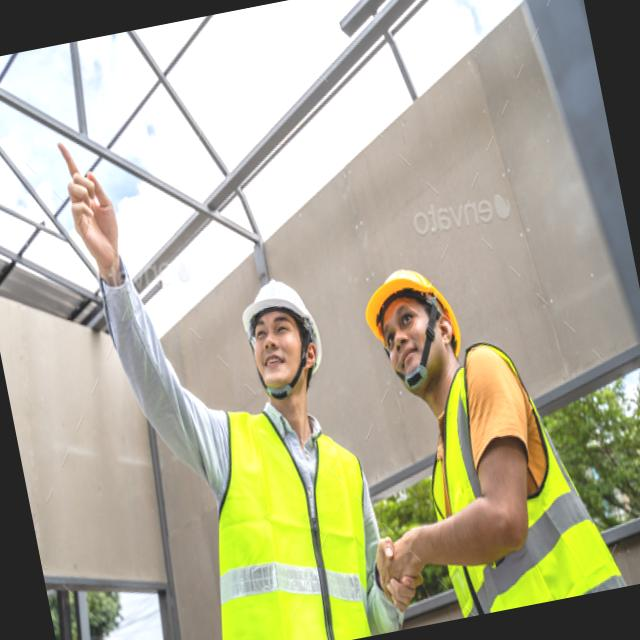helmet: (356, 244, 468, 368), (230, 266, 334, 386)
no-goggles: (374, 296, 432, 356), (238, 310, 310, 354)
vest: (392, 313, 633, 622), (170, 383, 398, 640)
